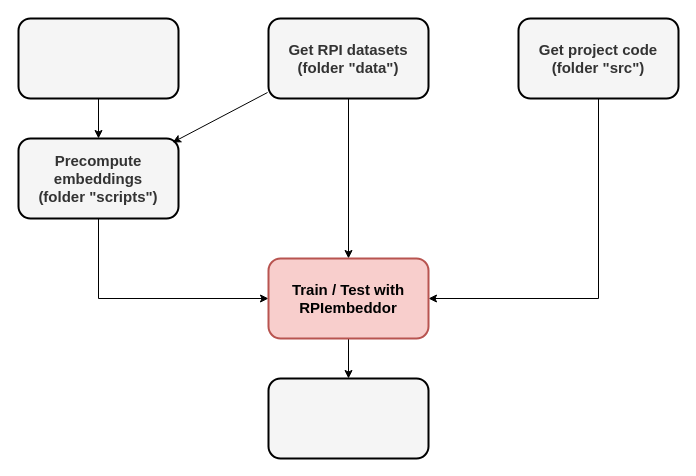
The diagram is 696 pixels wide and 476 high, and some of its shapes have lost their labels. Each missing label, with the centre of its shape:
Get benchmarking results: the point at 348,418
Install RNA and protein foundation models: the point at 98,58
